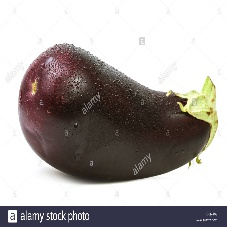eggplant: (19, 42, 213, 186)
